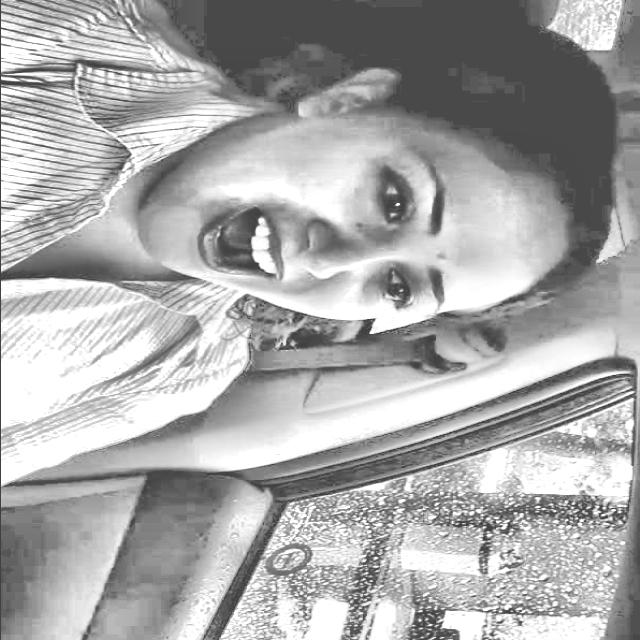open_eyes: (358, 154, 418, 233), (358, 264, 422, 318)
open_mouth: (184, 191, 293, 301)
